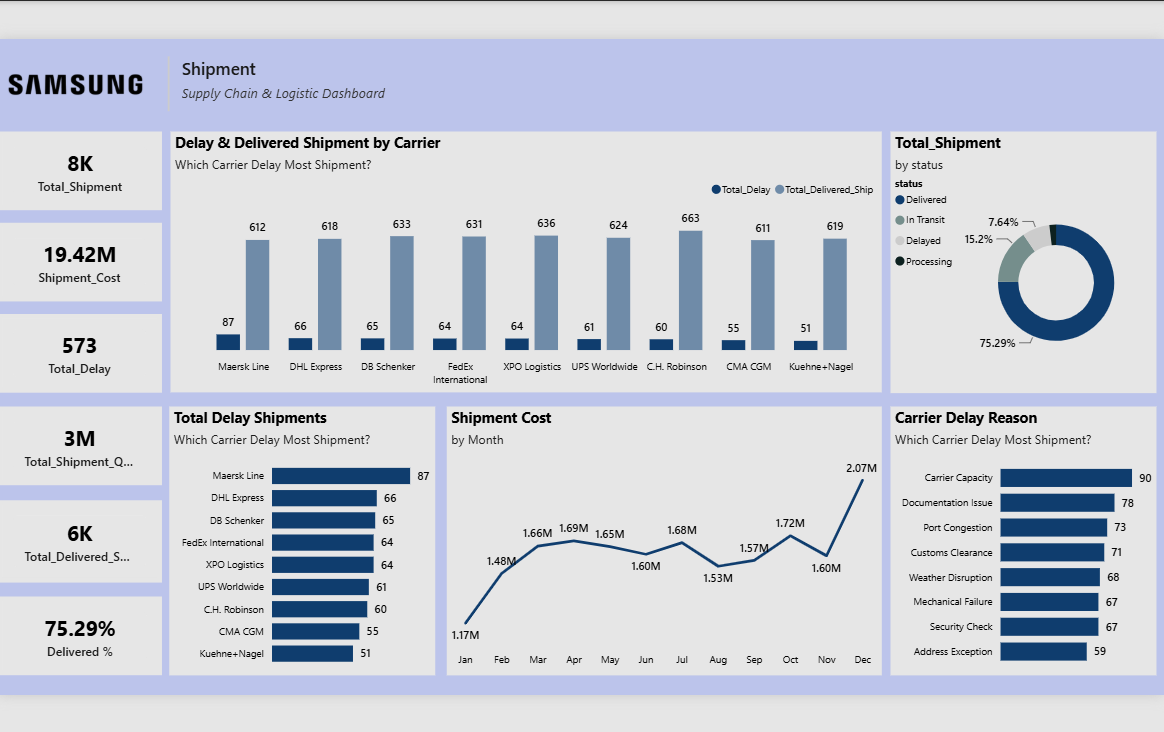

This screenshot's page, from the dashboard's own definition file:
{"tool":"powerbi","page":{"name":"Shipment","canvas":[1280,720],"ordinal":4},"visuals":[{"type":"shape","title":"Shipment","box":[201.7,18.8,278.6,60.4],"z":0},{"type":"shape","box":[172.9,18.8,28.8,60.4],"z":1000},{"type":"image","box":[0,18.8,163.3,60.4],"z":2000},{"type":"cardVisual","fields":{"Data":["Measures Table.Shipment_Cost"]},"box":[0,201.7,179.8,86.4],"z":3000},{"type":"cardVisual","fields":{"Data":["Measures Table.Total_Delay"]},"box":[0,301.9,179.8,86.4],"z":4000},{"type":"cardVisual","fields":{"Data":["Measures Table.Total_Shipment_Quantity"]},"box":[0,403.4,179.8,86.4],"z":5000},{"type":"cardVisual","fields":{"Data":["Measures Table.Total_Delivered_Ship"]},"box":[0,506.3,179.8,90.6],"z":6000},{"type":"cardVisual","fields":{"Data":["Measures Table.Delivered %"]},"box":[0,612,180,86.4],"z":7000},{"type":"cardVisual","fields":{"Data":["Measures Table.Total_Shipment"]},"box":[0,101.5,180,86.4],"z":8000},{"type":"clusteredBarChart","title":"Total Delay Shipments","fields":{"Category":["fact_shipment.carrier"],"Y":["Measures Table.Total_Delay"]},"box":[188,403.4,292.3,295],"z":9000},{"type":"clusteredColumnChart","title":"Delay & Delivered  Shipment by Carrier ","fields":{"Y":["Measures Table.Total_Delay","Measures Table.Total_Delivered_Ship"],"Category":["fact_shipment.carrier"]},"box":[189.4,101.5,780.8,286.8],"z":10000},{"type":"lineChart","title":"Shipment Cost","fields":{"Y":["Sum(fact_shipment.shipping_cost)"],"Category":["dim_date.Month_Short"]},"box":[492.6,403.4,477.5,295],"z":11000},{"type":"clusteredBarChart","title":"Carrier Delay Reason ","fields":{"Y":["Measures Table.Total_Delay"],"Category":["fact_shipment.delay_reason"]},"box":[979.8,403.4,292.3,295],"z":12000},{"type":"donutChart","fields":{"Y":["Measures Table.Total_Shipment"],"Category":["fact_shipment.status"]},"box":[980,102,292,287],"z":13000}]}

Visuals, with their boxes on the page's 1280x720 design canvas (x1, y1, x2, y2). These are canvas units, not pixel positions in the 1164x732 screenshot, which may show the page scaled, cropped or inside an application window:
"Shipment" shape: x1=202 y1=19 x2=480 y2=79
shape: x1=173 y1=19 x2=202 y2=79
image: x1=0 y1=19 x2=163 y2=79
cardVisual - Measures Table.Shipment_Cost: x1=0 y1=202 x2=180 y2=288
cardVisual - Measures Table.Total_Delay: x1=0 y1=302 x2=180 y2=388
cardVisual - Measures Table.Total_Shipment_Quantity: x1=0 y1=403 x2=180 y2=490
cardVisual - Measures Table.Total_Delivered_Ship: x1=0 y1=506 x2=180 y2=597
cardVisual - Measures Table.Delivered %: x1=0 y1=612 x2=180 y2=698
cardVisual - Measures Table.Total_Shipment: x1=0 y1=102 x2=180 y2=188
"Total Delay Shipments" clusteredBarChart: x1=188 y1=403 x2=480 y2=698
"Delay & Delivered  Shipment by Carrier " clusteredColumnChart: x1=189 y1=102 x2=970 y2=388
"Shipment Cost" lineChart: x1=493 y1=403 x2=970 y2=698
"Carrier Delay Reason " clusteredBarChart: x1=980 y1=403 x2=1272 y2=698
donutChart - Measures Table.Total_Shipment x fact_shipment.status: x1=980 y1=102 x2=1272 y2=389
